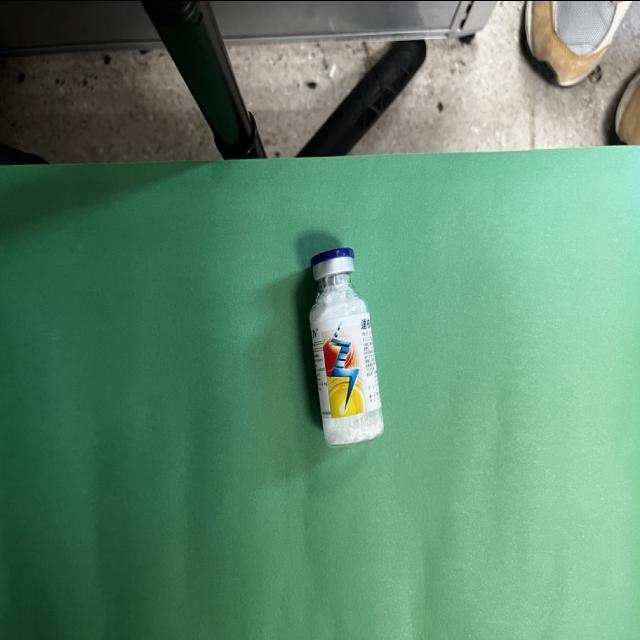Vials: (308, 247, 384, 447)
